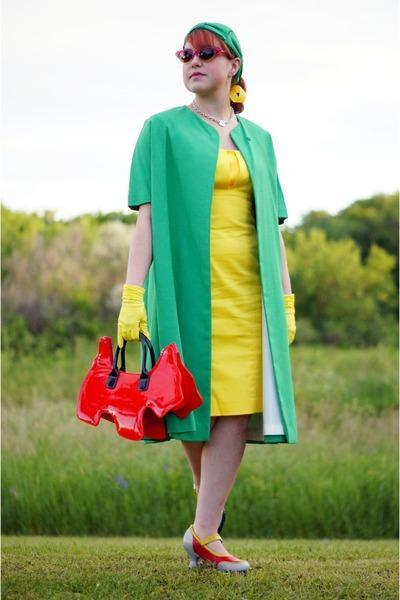bag: (77, 331, 202, 442)
dress: (210, 149, 263, 415)
jacket: (108, 105, 299, 443)
shoe: (180, 516, 227, 571)
sunglass: (181, 45, 220, 62)
